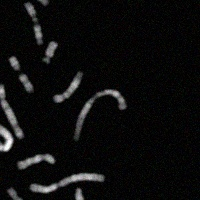chromosome: (74, 90, 127, 140), (31, 173, 104, 194), (0, 85, 24, 138), (24, 1, 45, 44), (54, 72, 84, 102), (17, 154, 56, 170), (0, 124, 14, 153), (42, 41, 57, 63), (19, 74, 35, 91), (7, 187, 26, 200), (9, 0, 49, 5), (75, 187, 86, 200), (10, 57, 20, 71)
